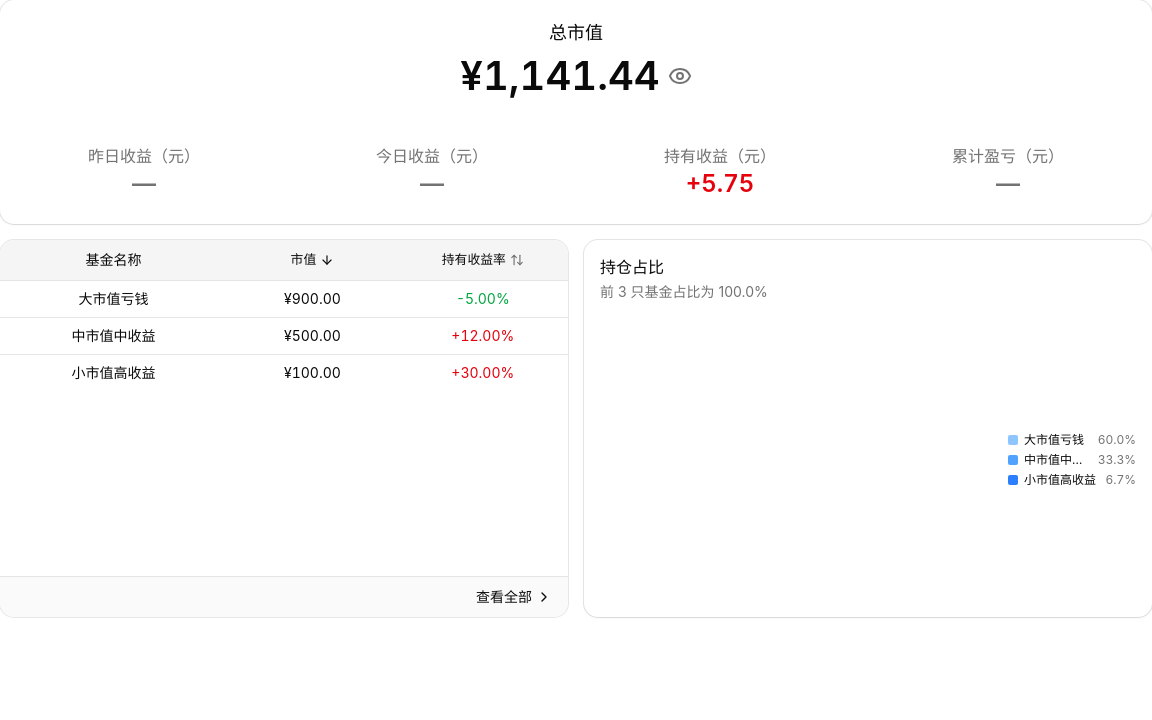
点「持有收益率」→ 按收益率降序;再点 → 升序
The width and height of the screenshot is (1152, 720).
What coordinates should you click on to do the following:
click the button "持有收益率"
I would click on:
 (483, 260)
Its box is [433,244,533,276].
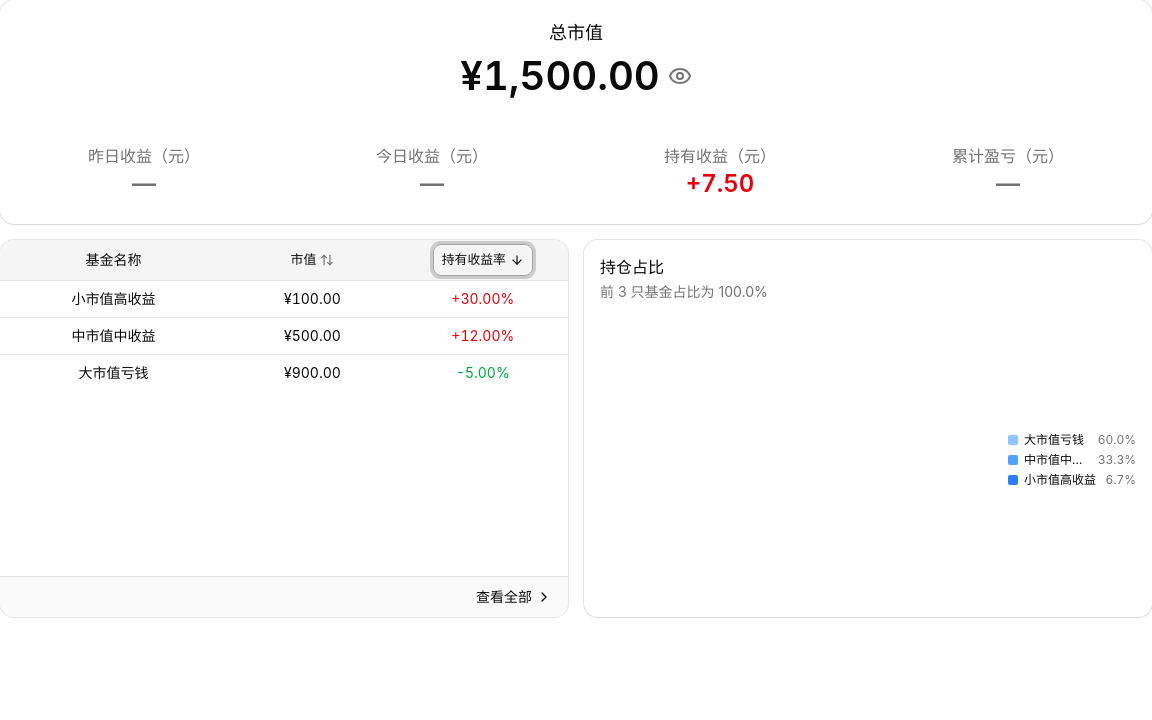
Check: the icon with test id "sort-icon-desc" is shown, box [510,253,524,267]
What coordinates should you click on to do the following:
click the button "持有收益率"
I would click on:
 (483, 260)
Its box is [433,244,533,276].
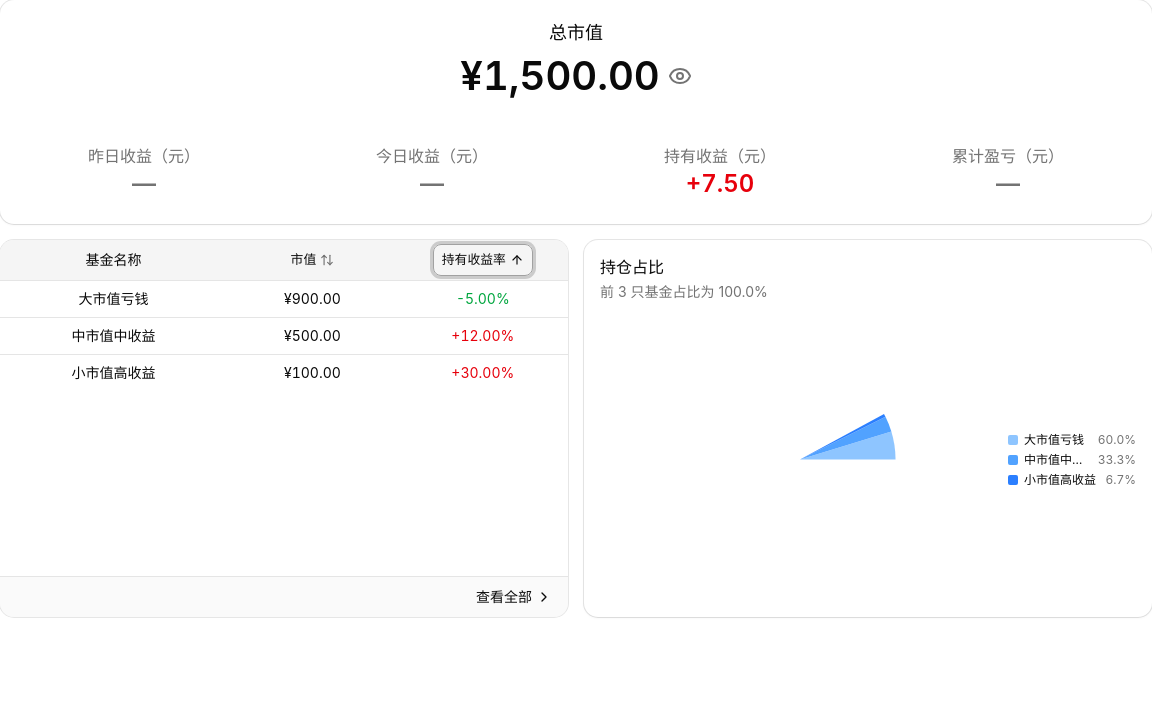
Check: the icon with test id "sort-icon-asc" is shown, box [510,253,524,267]
